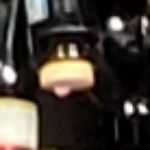bottle: (18, 15, 122, 114)
